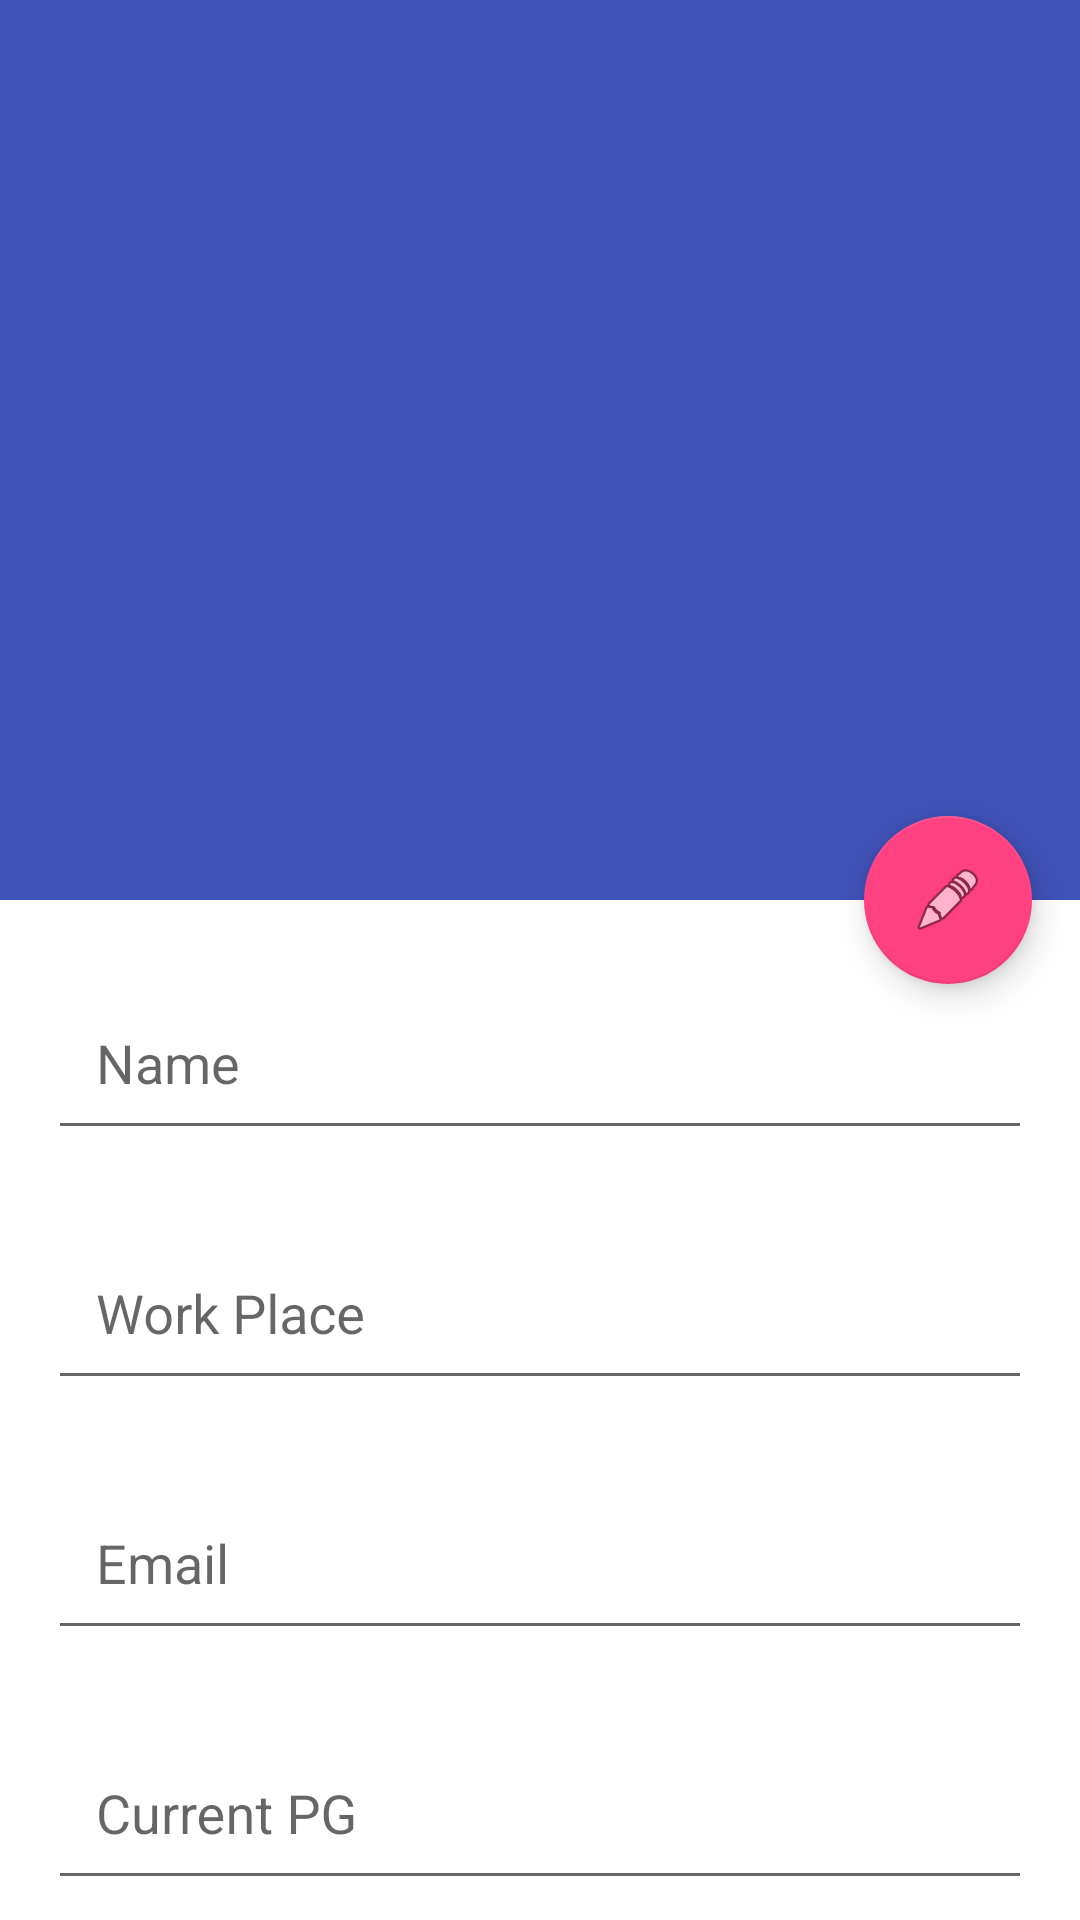

Screen size 1080w x 1920h. Icon name, then its center in pixels as (x=x, y=y):
edit: (x=948, y=900)
